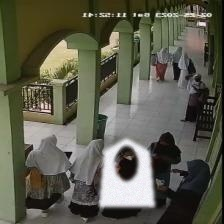Mukena: (98, 137, 154, 207)
